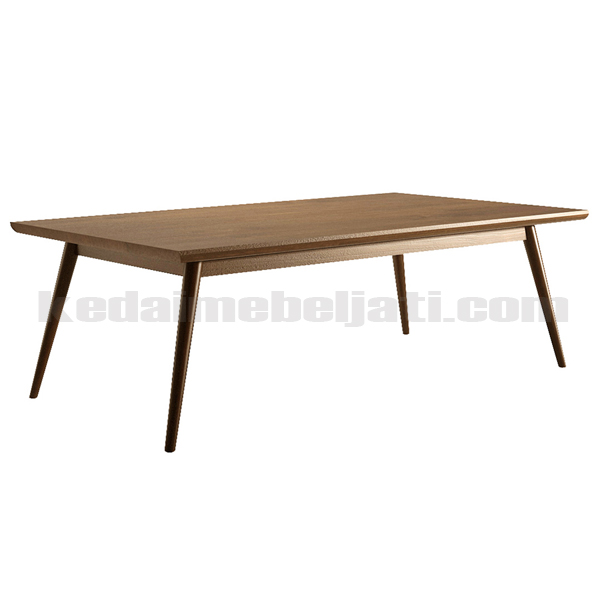Carving Table: (15, 181, 583, 415)
